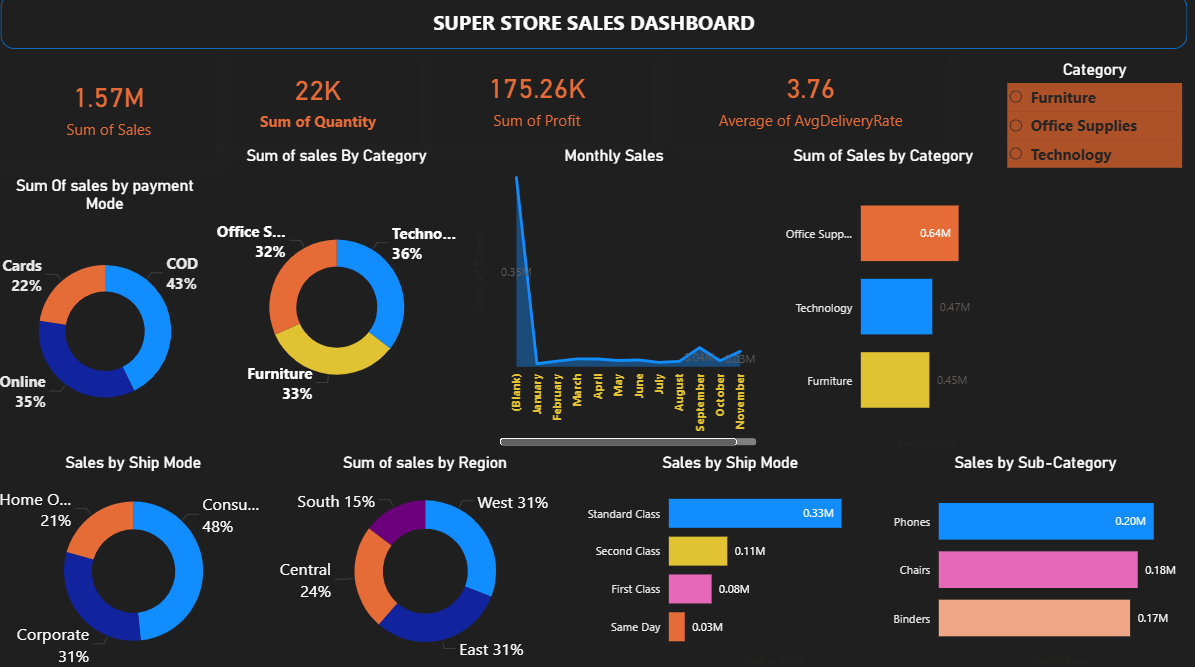

The page's visual inventory and layout, read from the dashboard file:
{"tool":"powerbi","page":{"name":"Page 1","canvas":[1280,720],"ordinal":0},"visuals":[{"type":"card","fields":{"Values":["Sum(SuperStore_Sales_Dataset.Sales)"]},"box":[7.6,58.8,204.7,100.5],"z":0},{"type":"shape","box":[7.6,0,1264.3,58.6],"z":1000},{"type":"card","fields":{"Values":["Avg(SuperStore_Sales_Dataset.AvgDeliveryRate)"]},"box":[724,58.8,293.8,100.5],"z":2000},{"type":"card","fields":{"Values":["Sum(SuperStore_Sales_Dataset.Profit)"]},"box":[453,58.8,221.8,100.5],"z":3000},{"type":"card","fields":{"Values":["Sum(SuperStore_Sales_Dataset.Quantity)"]},"box":[238.8,60.7,199,100.5],"z":4000},{"type":"clusteredBarChart","fields":{"Y":["Sum(SuperStore_Sales_Dataset.Sales)"],"Category":["SuperStore_Sales_Dataset.Category"]},"box":[765.7,155.4,242.6,252.1],"z":5000},{"type":"clusteredBarChart","title":"Sales by Sub-Category","fields":{"Category":["SuperStore_Sales_Dataset.Sub-Category"],"Y":["Sum(SuperStore_Sales_Dataset.Sales)"]},"box":[765.7,445.4,252.1,274.8],"z":6000},{"type":"clusteredBarChart","title":" Sales by Ship Mode","fields":{"Y":["Sum(SuperStore_Sales_Dataset.Sales)"],"Category":["SuperStore_Sales_Dataset.Ship Mode"]},"box":[492.8,481.4,254,238.8],"z":7000},{"type":"stackedAreaChart","title":" Monthly Sales","fields":{"Category":["SuperStore_Sales_Dataset.Order Date.Variation.Date Hierarchy.Month","SuperStore_Sales_Dataset.Order Date.Variation.Date Hierarchy.Day"],"Y":["Sum(SuperStore_Sales_Dataset.Sales)"]},"box":[492.8,161.1,252.1,242.6],"z":8000},{"type":"donutChart","title":"Sum Of sales by payment Mode","fields":{"Y":["Sum(SuperStore_Sales_Dataset.Sales)"],"Category":["SuperStore_Sales_Dataset.Payment Mode"]},"box":[0,159.2,238.8,244.5],"z":9001},{"type":"donutChart","title":" Sales by Ship Mode","fields":{"Category":["SuperStore_Sales_Dataset.Segment"],"Y":["Sum(SuperStore_Sales_Dataset.Sales)"]},"box":[0,460.6,238.8,259.7],"z":9002},{"type":"donutChart","title":" Sum of sales by Region","fields":{"Y":["Sum(SuperStore_Sales_Dataset.Sales)"],"Category":["SuperStore_Sales_Dataset.Region"]},"box":[238.8,460.6,238.8,259.7],"z":9003},{"type":"donutChart","title":"Sum of sales By Category","fields":{"Y":["Sum(SuperStore_Sales_Dataset.Sales)"],"Category":["SuperStore_Sales_Dataset.Category"]},"box":[238.8,161.1,254,242.6],"z":9004}]}

Visuals, with their boxes in screenshot pixels (x1, y1, x2, y2), scaled from the page's 1280x720 canvas onto the 1195x667 screenshot:
card - Sum(SuperStore_Sales_Dataset.Sales): bbox=[7, 54, 198, 148]
shape: bbox=[7, 0, 1187, 54]
card - Avg(SuperStore_Sales_Dataset.AvgDeliveryRate): bbox=[676, 54, 950, 148]
card - Sum(SuperStore_Sales_Dataset.Profit): bbox=[423, 54, 630, 148]
card - Sum(SuperStore_Sales_Dataset.Quantity): bbox=[223, 56, 409, 149]
clusteredBarChart - Sum(SuperStore_Sales_Dataset.Sales) x SuperStore_Sales_Dataset.Category: bbox=[715, 144, 941, 378]
"Sales by Sub-Category" clusteredBarChart: bbox=[715, 413, 950, 666]
" Sales by Ship Mode" clusteredBarChart: bbox=[460, 446, 697, 666]
" Monthly Sales" stackedAreaChart: bbox=[460, 149, 695, 374]
"Sum Of sales by payment Mode" donutChart: bbox=[0, 147, 223, 374]
" Sales by Ship Mode" donutChart: bbox=[0, 427, 223, 666]
" Sum of sales by Region" donutChart: bbox=[223, 427, 446, 666]
"Sum of sales By Category" donutChart: bbox=[223, 149, 460, 374]
